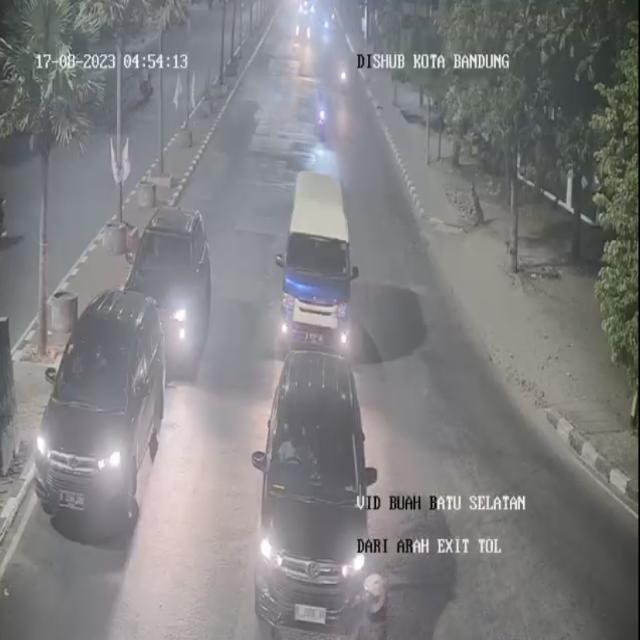cars: (242, 352, 368, 640), (28, 285, 161, 542), (283, 168, 356, 358), (135, 202, 209, 370)
motorcycle: (310, 83, 334, 148), (336, 47, 351, 99)
